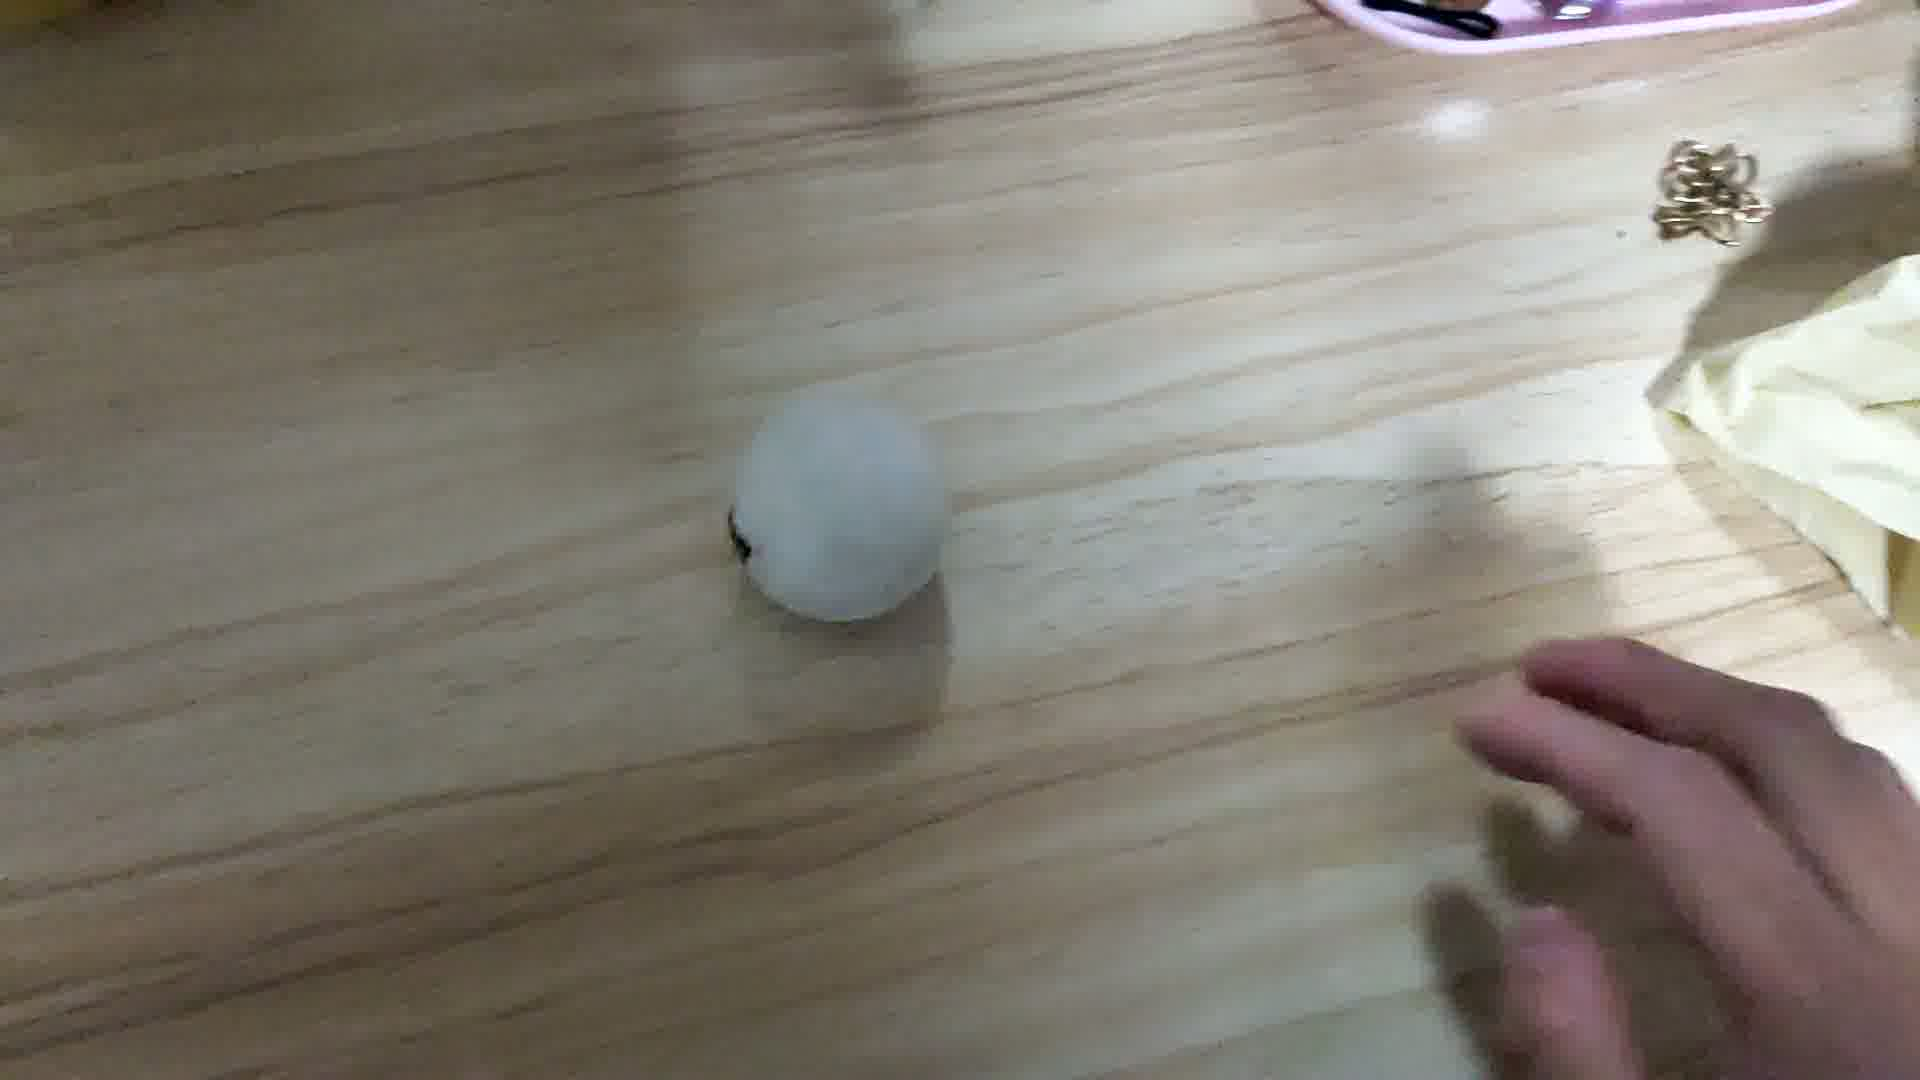Ball: (720, 392, 977, 629)
